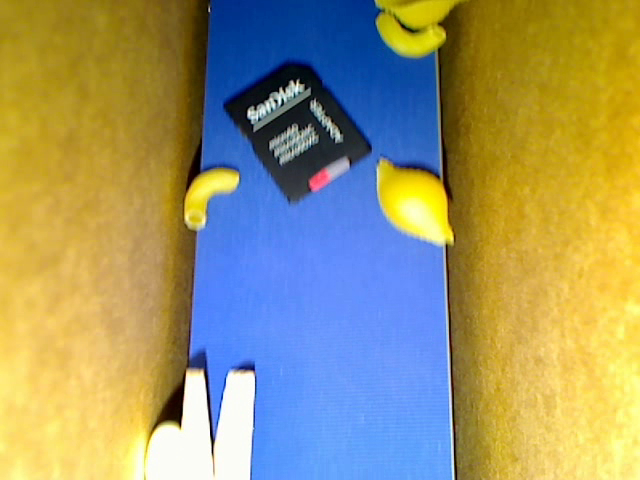elbow: (183, 167, 240, 230), (375, 11, 446, 59)
shell: (377, 156, 453, 248), (374, 1, 468, 31)
